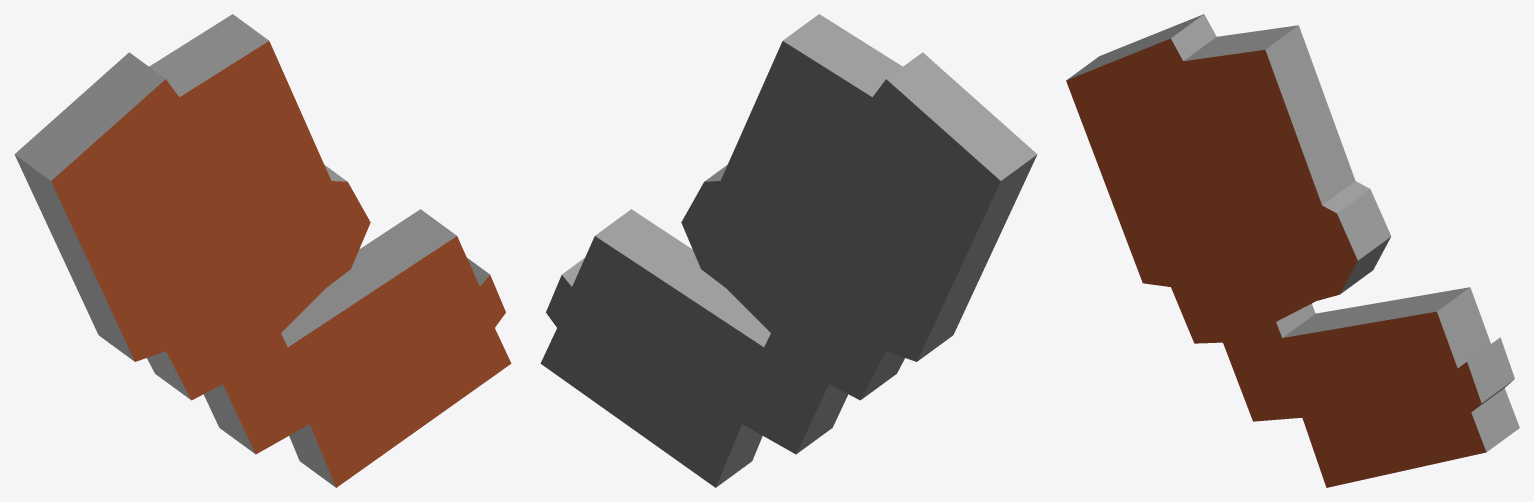
The model's file is construction_0801_assumed_A_Casa_h6m.obj.
The picture shows the model from 3 angles, left to right: view 1: azimuth 30°, elevation 25°; view 2: azimuth 150°, elevation 25°; view 3: azimuth 330°, elevation 25°; orthographic projection. The views are drawn at different scales.
Visible parts, largest first — view 1: construction_0801_assumed_A_Casa; view 2: construction_0801_assumed_A_Casa; view 3: construction_0801_assumed_A_Casa.
Part boxes in pixels (x1,y1,x2,y2): construction_0801_assumed_A_Casa: (14, 14, 511, 487); construction_0801_assumed_A_Casa: (540, 14, 1037, 487); construction_0801_assumed_A_Casa: (1066, 14, 1519, 487).
Size of the model in its own units: 43.56 by 41.91 by 6.
